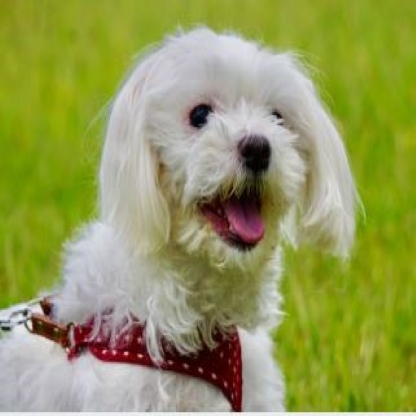maltese: (3, 25, 369, 416)
